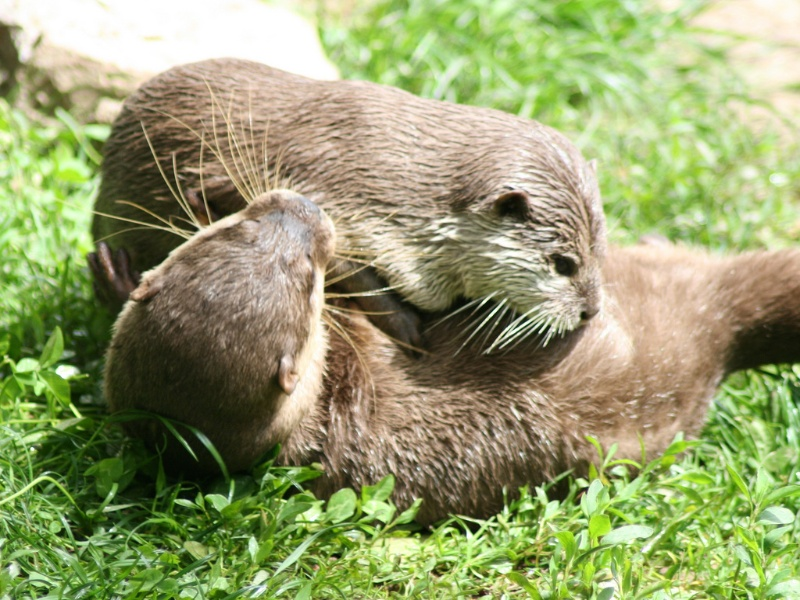minkish: (97, 183, 800, 499), (87, 58, 605, 351)
